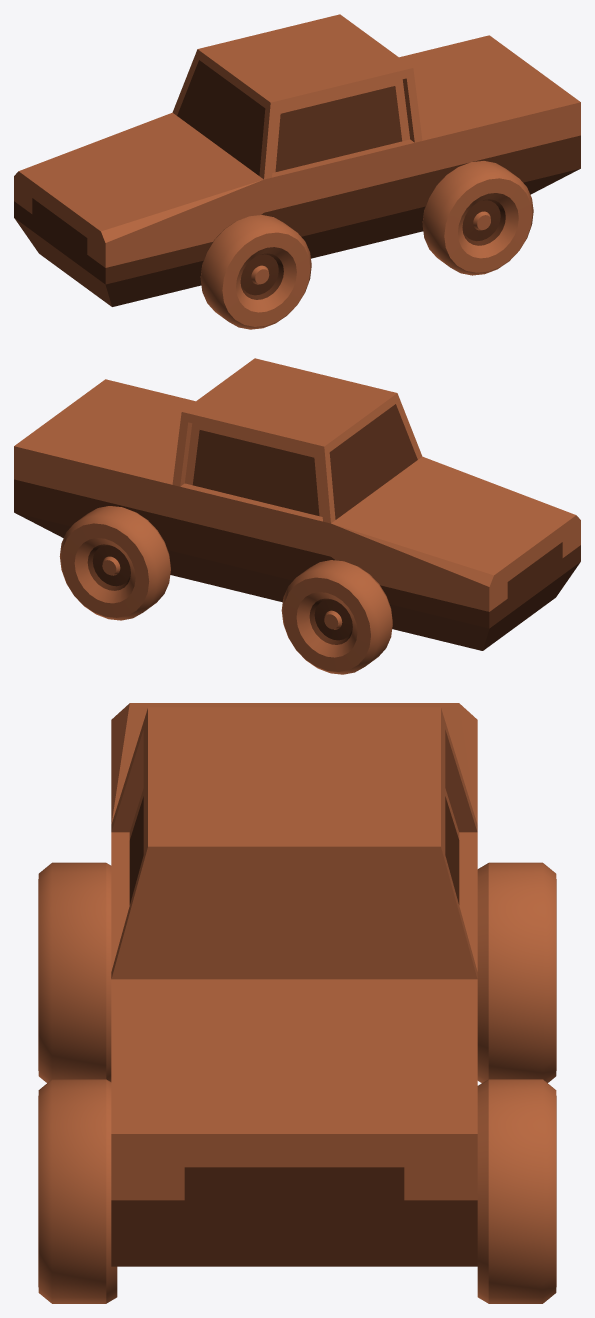
File: toy car.fbx
3 views of the same model, one above another, from view 1: azimuth 30°, elevation 25°; view 2: azimuth 150°, elevation 25°; view 3: azimuth 270°, elevation 25° (orthographic). The views are drawn at different scales.
Visible parts, largest first — view 1: mergedBlocks; view 2: mergedBlocks; view 3: mergedBlocks.
Boxes of the visible parts, x1=… form: mergedBlocks: x1=14, y1=14, x2=580, y2=329; mergedBlocks: x1=14, y1=358, x2=580, y2=674; mergedBlocks: x1=38, y1=703, x2=556, y2=1303.
Size of the model in its own units: 3 by 1.21 by 1.42.
